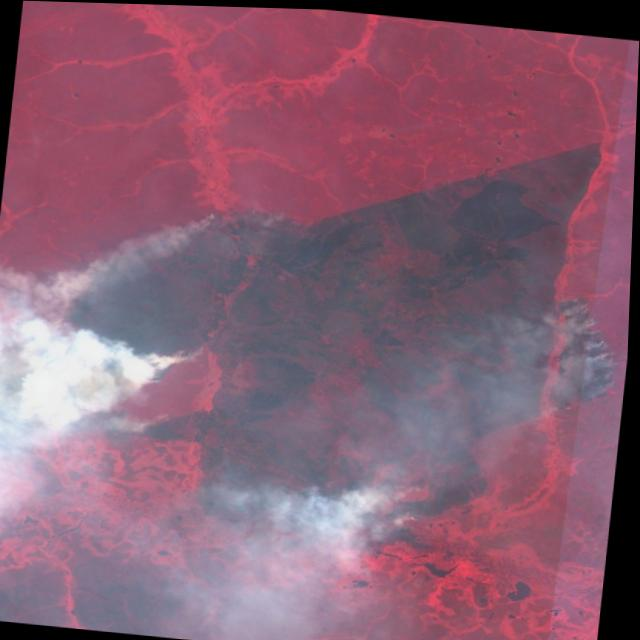fire: (23, 193, 294, 436), (527, 274, 632, 436), (305, 449, 445, 544)
